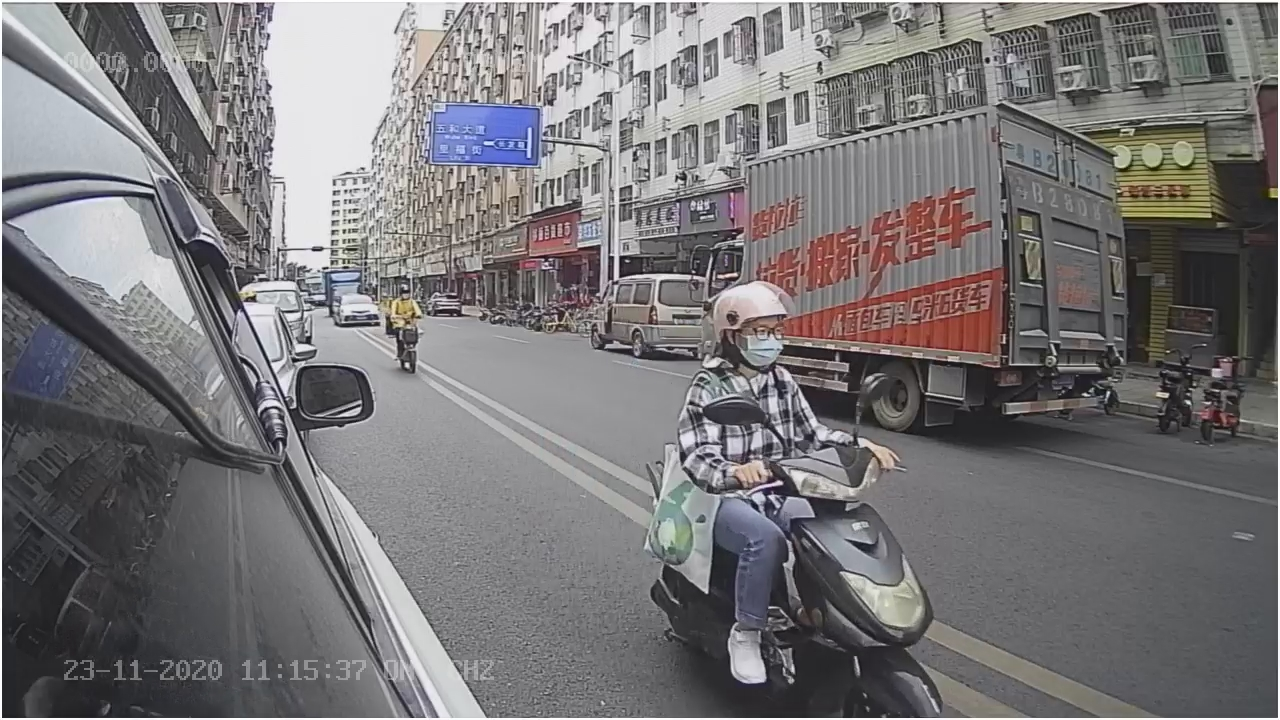person: (668, 281, 899, 455)
